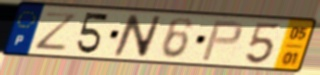5: (244, 21, 282, 65), (74, 11, 110, 55)
6: (159, 17, 195, 61)
N: (111, 13, 165, 59)
P: (199, 19, 245, 63)
Z: (34, 10, 81, 52)
